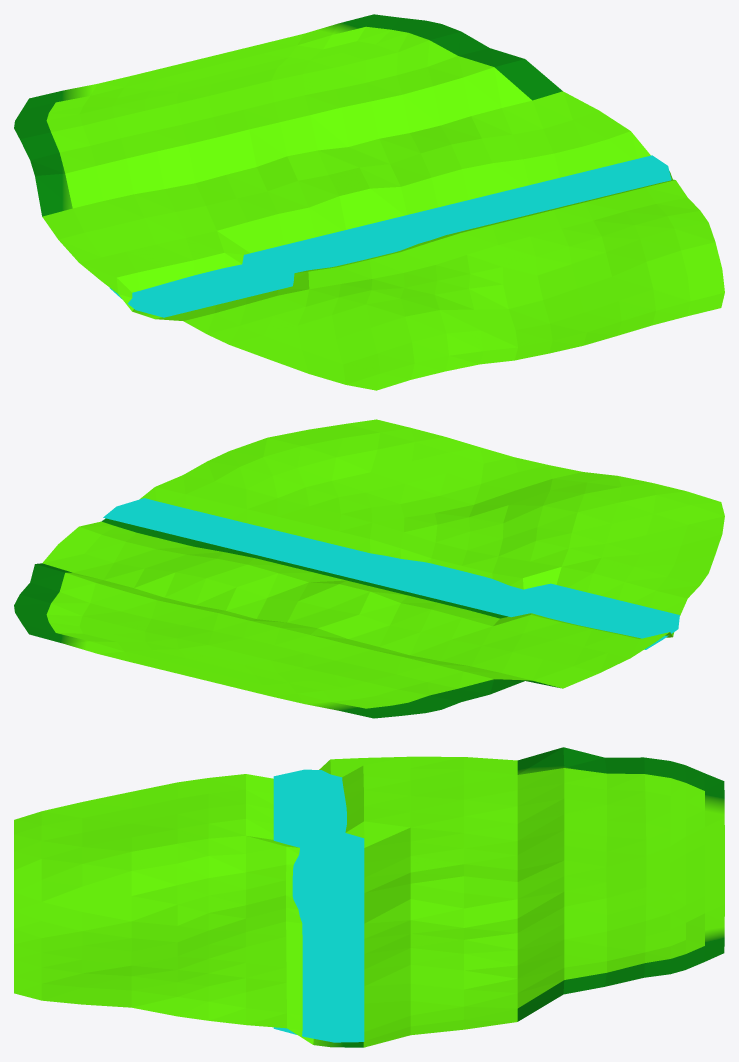
File: Terrain.fbx
The picture shows the model from 3 angles, top to bottom: view 1: azimuth 30°, elevation 25°; view 2: azimuth 150°, elevation 25°; view 3: azimuth 270°, elevation 25°; orthographic projection. The views are drawn at different scales.
Visible parts, largest first — view 1: pDisc13; view 2: pDisc13; view 3: pDisc13.
Boxes of the visible parts, box(x1,y1,x2,y2) form: pDisc13: box(14, 14, 724, 390); pDisc13: box(14, 419, 724, 718); pDisc13: box(14, 747, 724, 1047).
Bounding box in the file's own units: 30.93 × 2.45 × 33.68.
